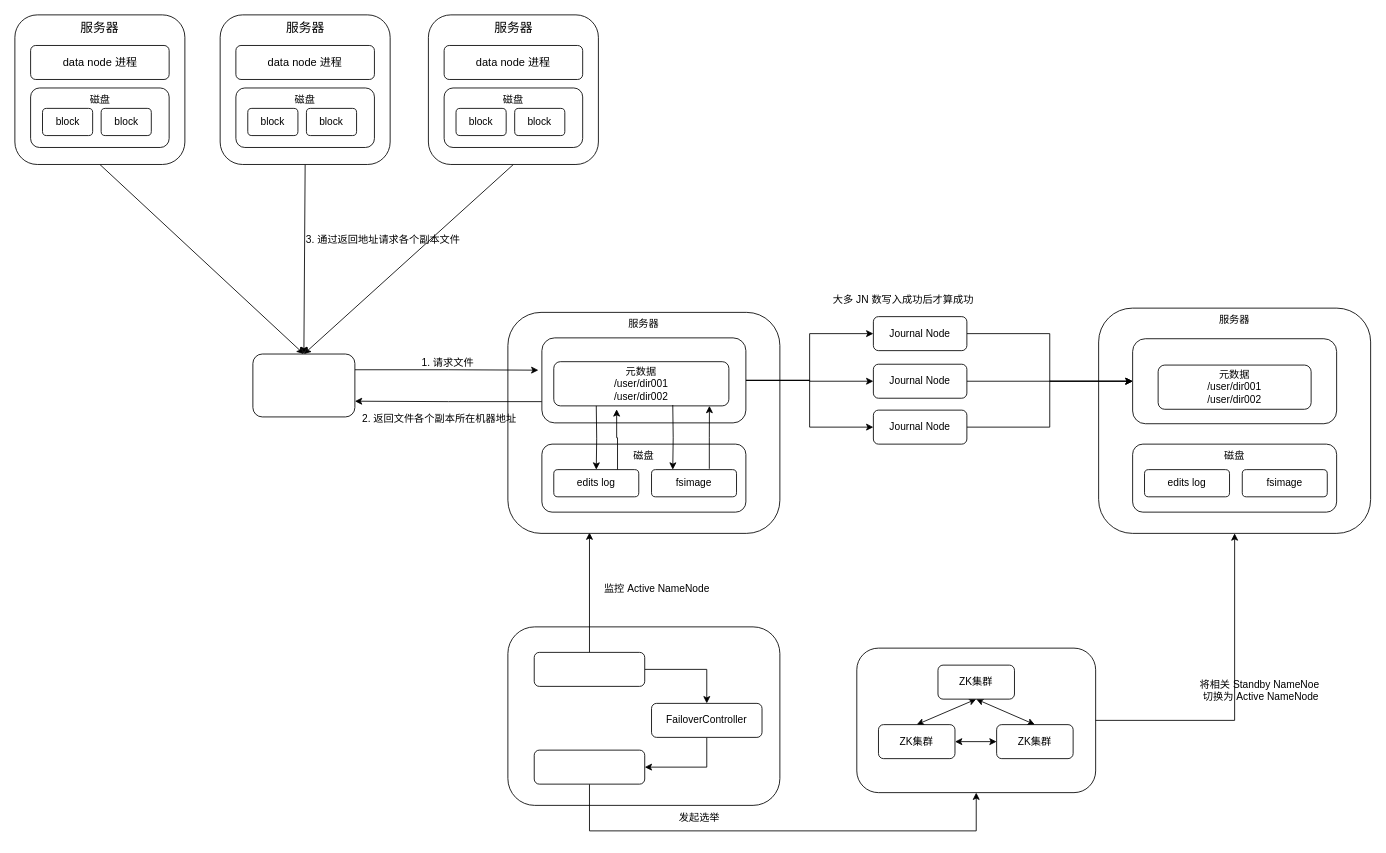
This 1386x853 diagram has some shape labels left out. The shapes that lost their labels are listed below. From the top down, each one's box as (x1, y1, x2, y2) in pixels, then its label:
(252, 353, 355, 417): 客户端
(541, 337, 746, 423): Active Namenode
(1132, 338, 1337, 424): Standby Namenode
(533, 652, 645, 686): HealthMonitor
(507, 626, 780, 805): ZKFC
(533, 749, 645, 784): ActiveStandbyElector
